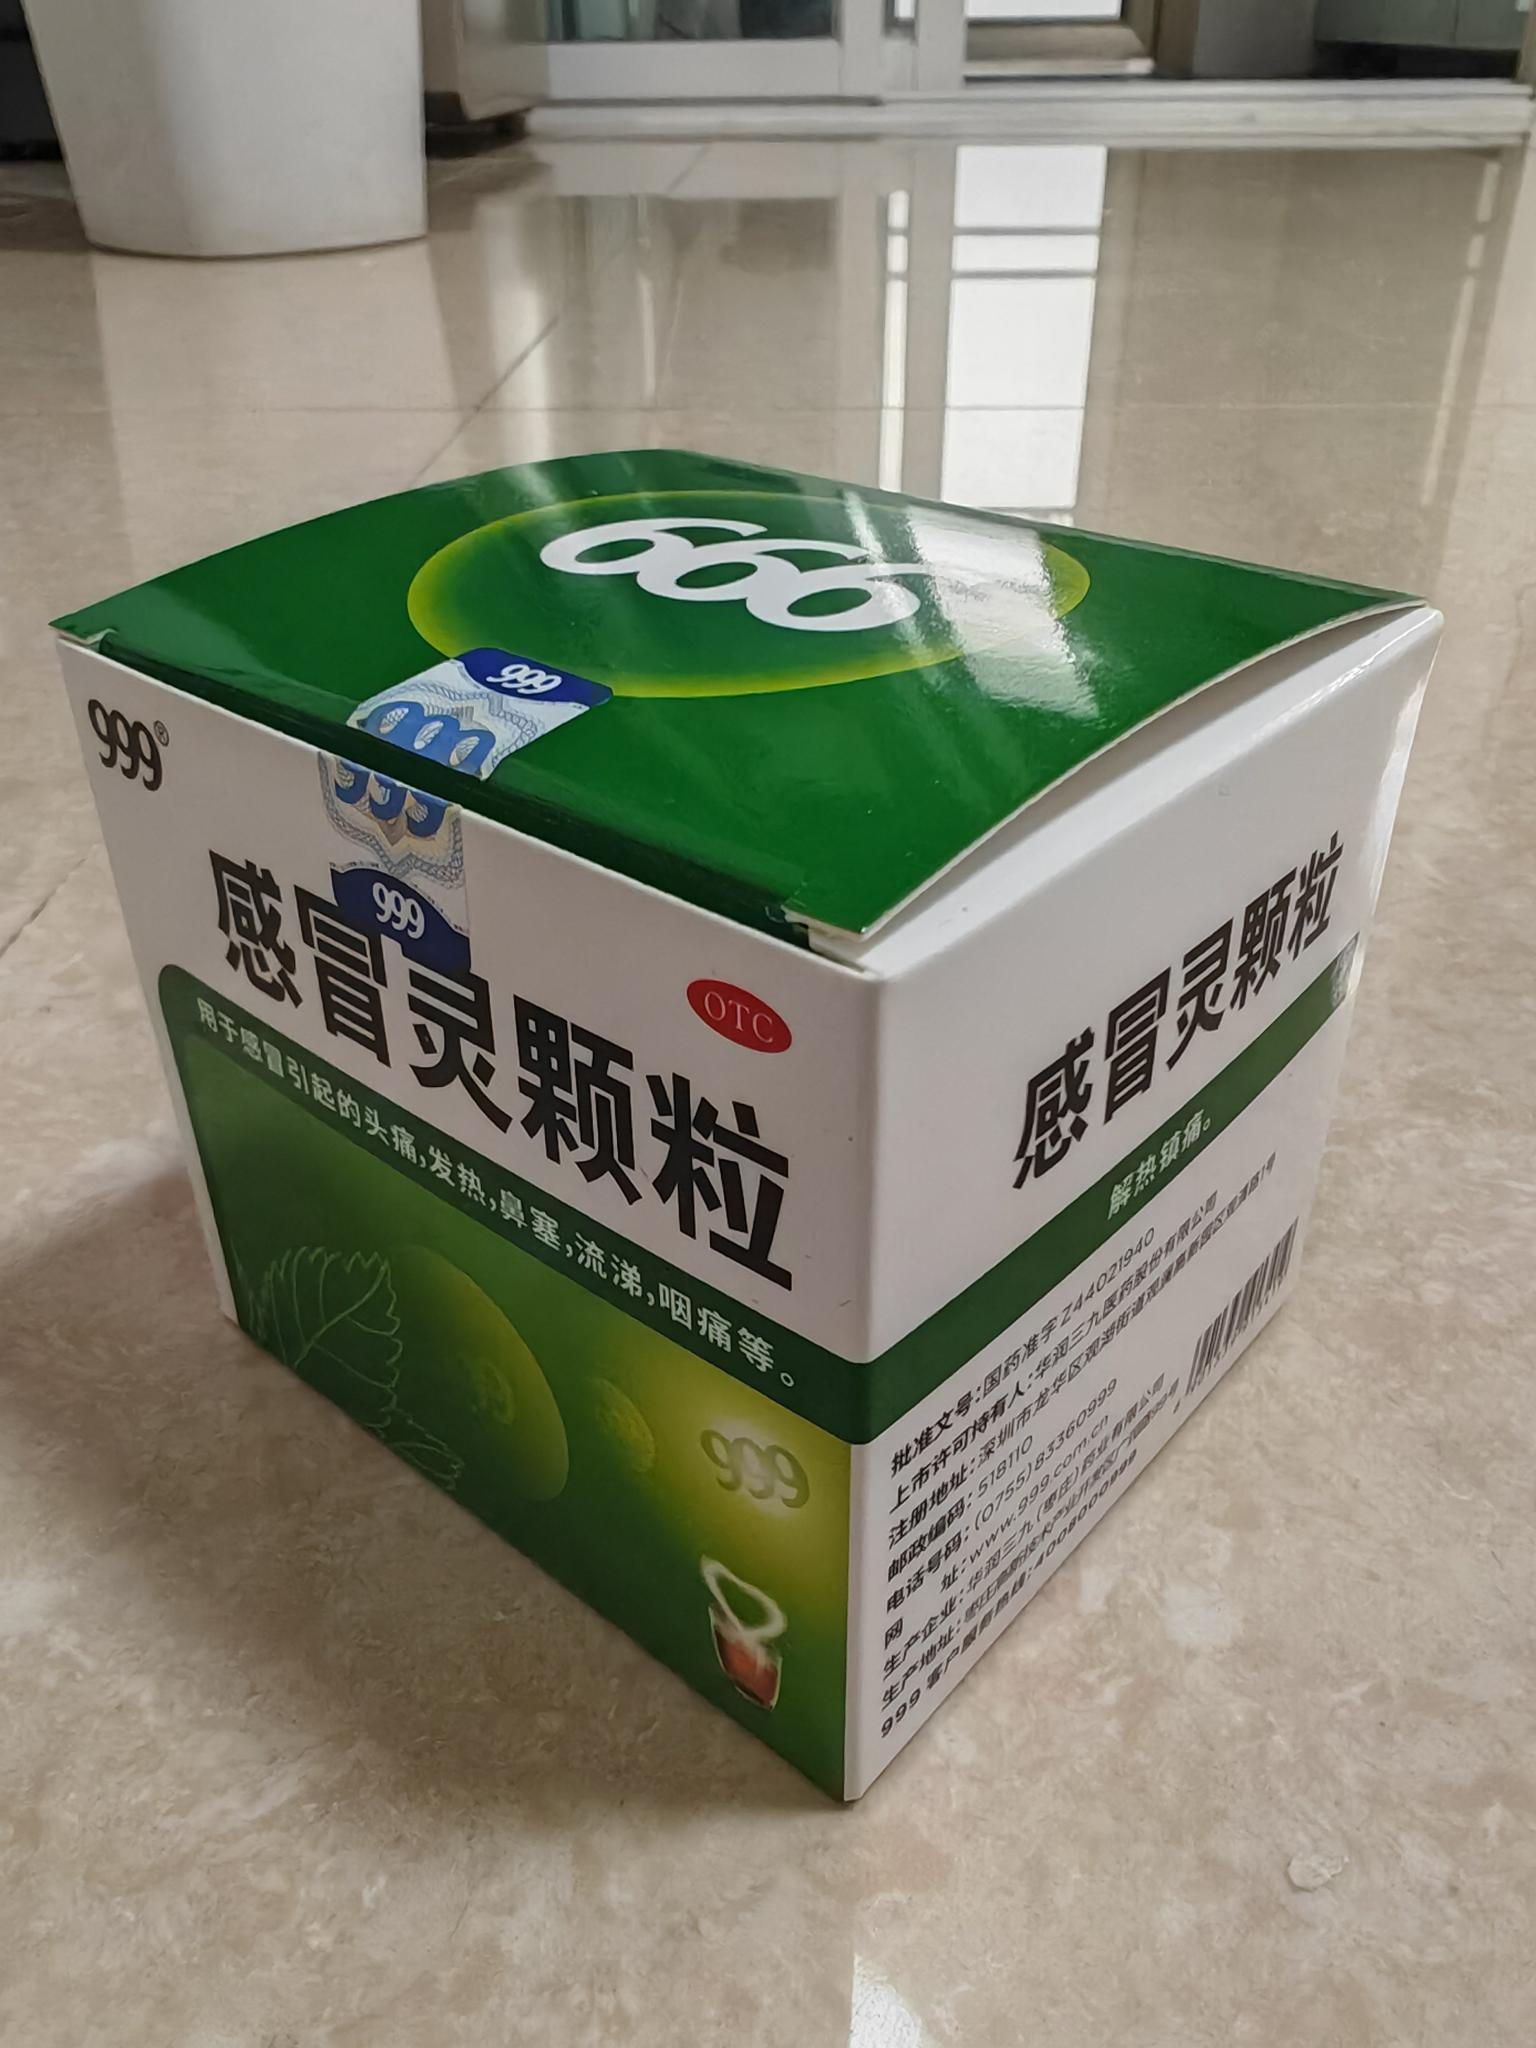Medicine3: (29, 431, 1475, 1837)
